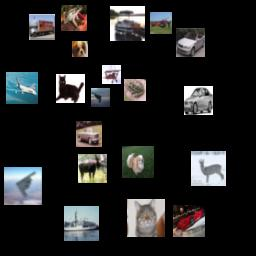airplane: (4, 167, 42, 205), (6, 72, 38, 104), (150, 12, 172, 34), (102, 65, 121, 84), (91, 88, 110, 107)
automobile: (173, 205, 205, 237), (184, 86, 213, 115), (176, 28, 205, 57), (76, 121, 102, 147)
cat: (127, 199, 165, 237), (56, 74, 85, 103)
deer: (191, 151, 226, 186), (78, 154, 107, 183)
dog: (122, 146, 154, 178), (72, 41, 88, 57)
frog: (61, 5, 87, 31), (124, 79, 146, 101)
ship: (64, 206, 99, 241), (110, 6, 145, 41)
truck: (29, 14, 55, 40)
